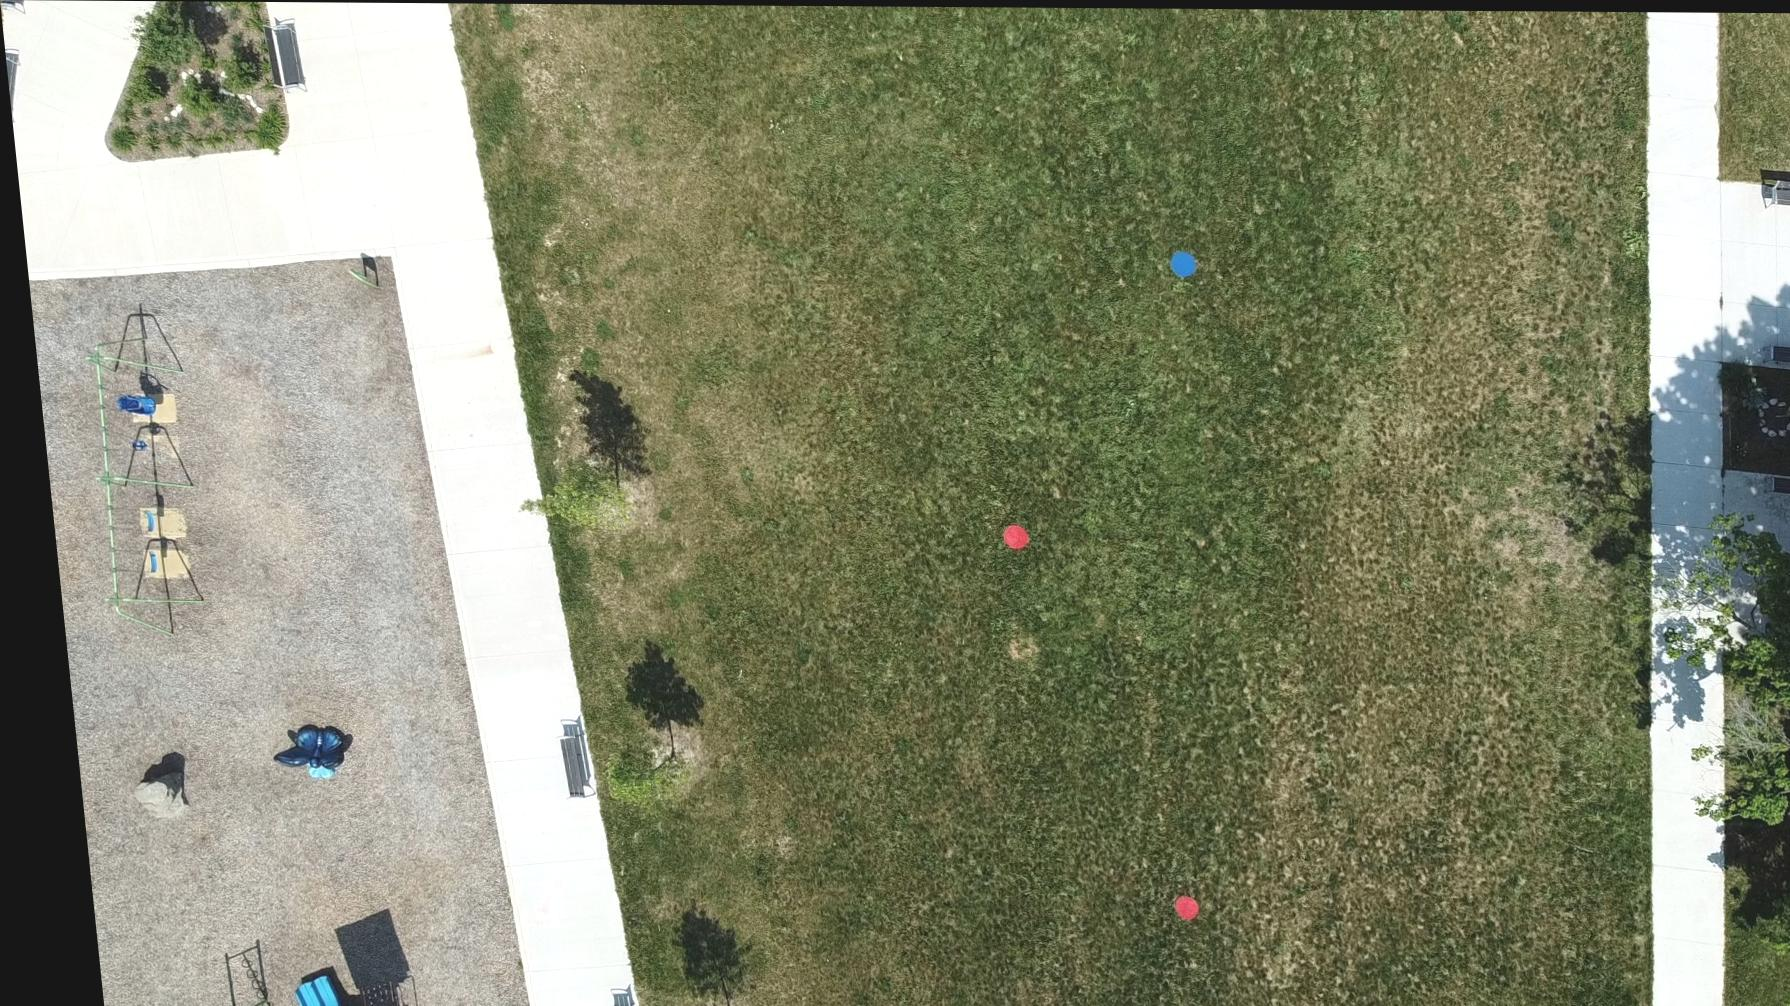Blue: (1163, 247, 1194, 277)
Red: (990, 521, 1020, 550), (1153, 892, 1183, 920)
